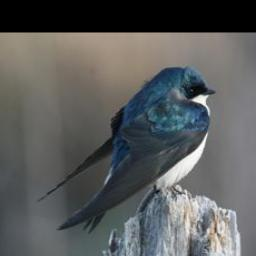Swallow: (35, 65, 215, 233)
